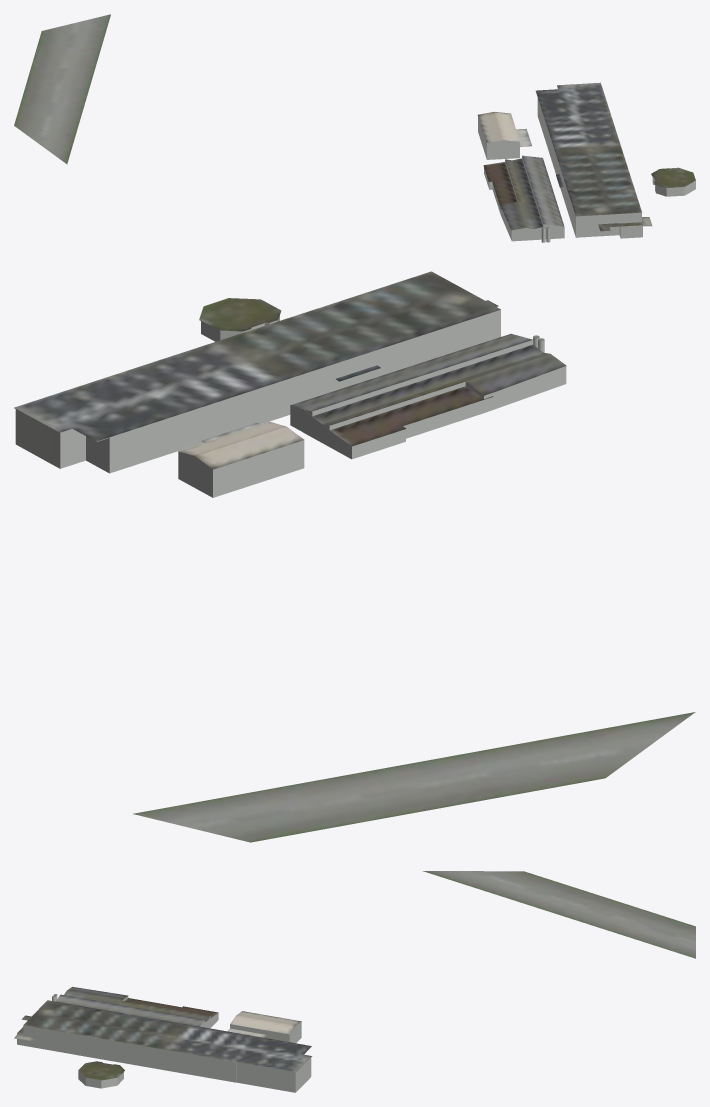
The model's file is LSME_0_0.glb.
3 views of the same model, one above another, from view 1: azimuth 30°, elevation 25°; view 2: azimuth 150°, elevation 25°; view 3: azimuth 270°, elevation 25° (orthographic). The views are drawn at different scales.
Parts seen in each view (by area): view 1: building_63351cfbdba04305, pavement_LSME_pavement_5332_2432, building_a357b6d1e6d4bd3b, building_7a332c42b7f7f30d, building_93c93bfdbfea8d8f; view 2: building_63351cfbdba04305, pavement_LSME_pavement_5332_2432, building_a357b6d1e6d4bd3b, building_7a332c42b7f7f30d, building_93c93bfdbfea8d8f; view 3: building_63351cfbdba04305, pavement_LSME_pavement_5332_2432, building_a357b6d1e6d4bd3b, building_7a332c42b7f7f30d, building_93c93bfdbfea8d8f.
Part boxes in pixels (x1,y1,x2,y2): building_63351cfbdba04305: (483,84,695,231); pavement_LSME_pavement_5332_2432: (14,14,110,164); building_a357b6d1e6d4bd3b: (484,88,695,241); building_7a332c42b7f7f30d: (477,82,609,146); building_93c93bfdbfea8d8f: (478,117,519,159); building_63351cfbdba04305: (49,271,566,446); pavement_LSME_pavement_5332_2432: (133,712,695,842); building_a357b6d1e6d4bd3b: (49,310,566,473); building_7a332c42b7f7f30d: (14,377,304,469); building_93c93bfdbfea8d8f: (15,409,304,497); building_63351cfbdba04305: (14,986,312,1080); pavement_LSME_pavement_5332_2432: (423,871,695,958); building_a357b6d1e6d4bd3b: (17,996,311,1088); building_7a332c42b7f7f30d: (227,1011,308,1072); building_93c93bfdbfea8d8f: (230,1022,307,1092).
Size of the model in its own units: 337 by 15.08 by 447.
3 materials, 2 textured.
